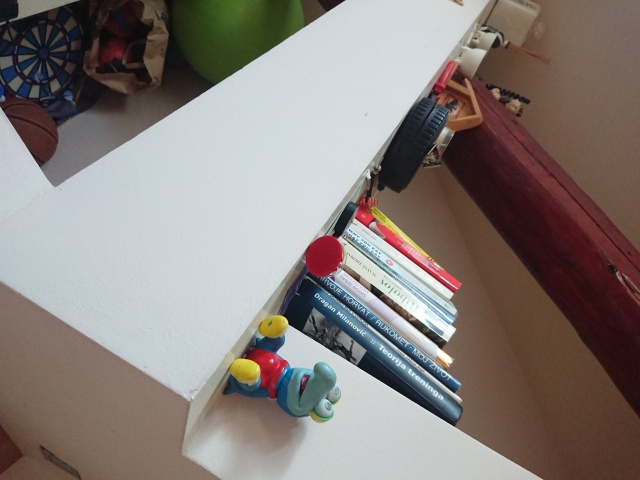Kotanyi Curry Spices Mix 70g: (304, 233, 349, 280)
